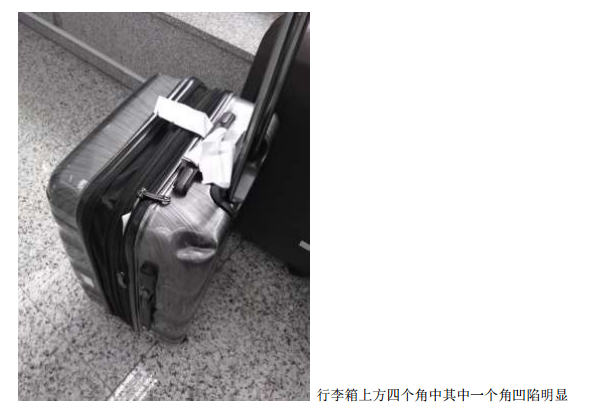rupture: (169, 229, 219, 262)
